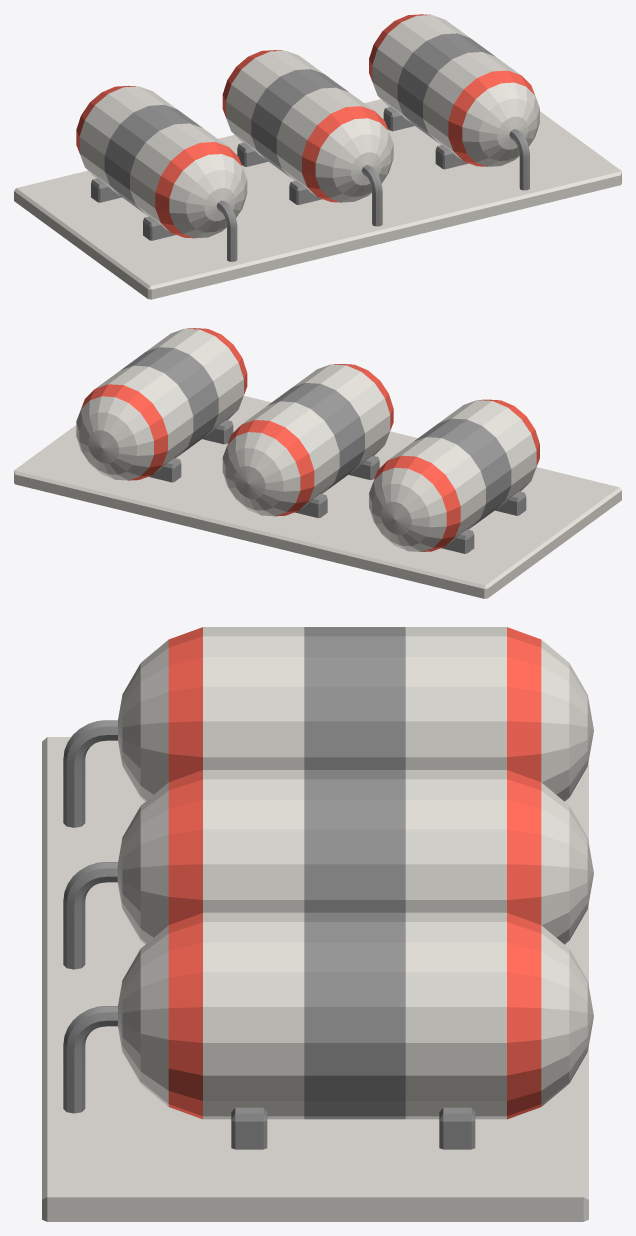
The model's file is 03 Air_tank.FBX.
3 views of the same model, one above another, from view 1: azimuth 30°, elevation 25°; view 2: azimuth 150°, elevation 25°; view 3: azimuth 270°, elevation 25° (orthographic). The views are drawn at different scales.
Parts seen in each view (by area): view 1: Sphere003; view 2: Sphere003; view 3: Sphere003.
Part boxes in pixels (x1=…): Sphere003: x1=14, y1=14, x2=621, y2=299; Sphere003: x1=14, y1=328, x2=621, y2=598; Sphere003: x1=42, y1=627, x2=593, y2=1221.
Bounding box in the file's own units: 4000 × 896 × 2018.
